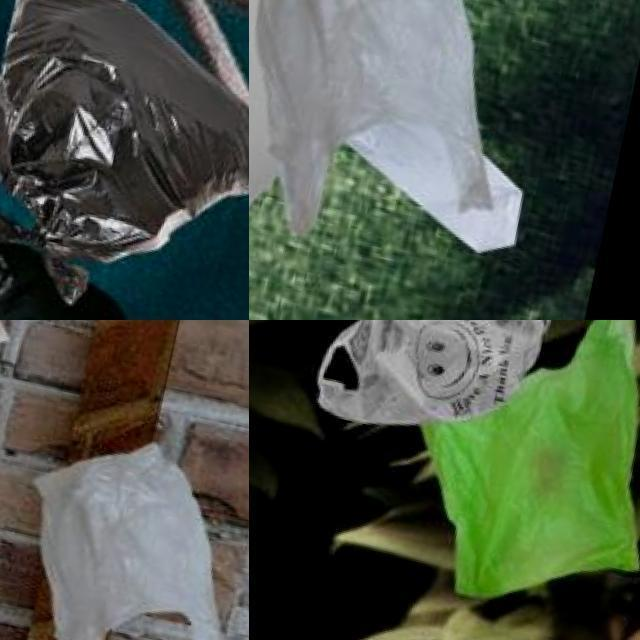waste: (0, 0, 249, 320), (249, 0, 547, 262), (414, 320, 640, 610), (249, 0, 511, 223), (8, 425, 249, 640), (339, 320, 563, 443)
